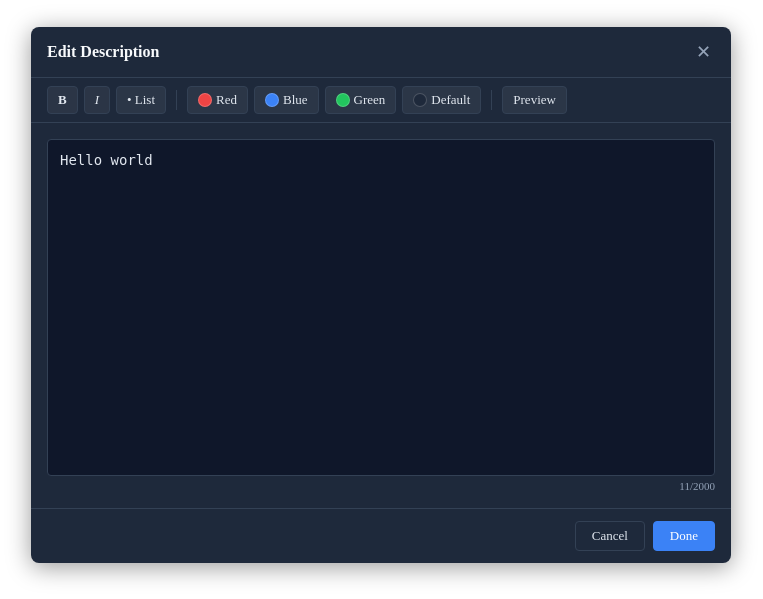
Scenario: DescriptionModal › toolbar bold button › wraps selected text with bold markers
This screenshot has width=763, height=599.
What coordinates should you click on to do the following:
click the button with test id "toolbar-bold"
I would click on:
 (62, 100)
Its box is [47,86,78,114].
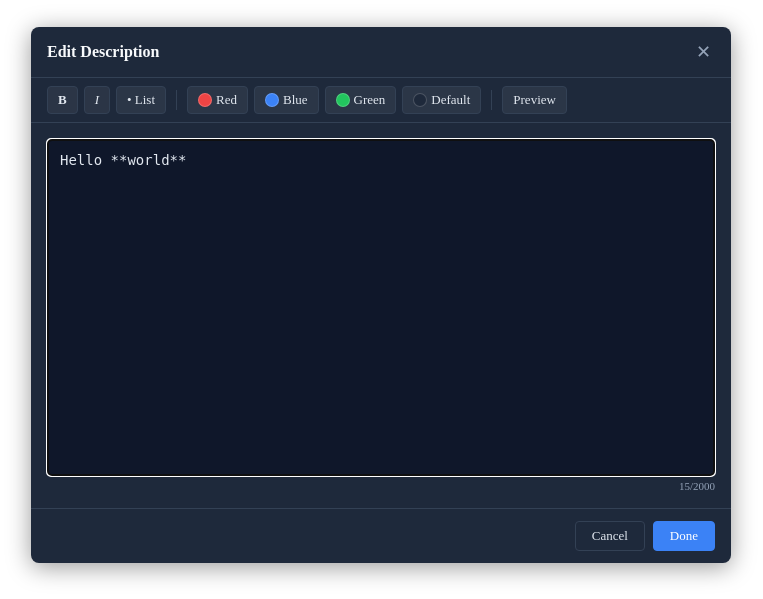
Expected: the text box with test id "description-modal-textarea" holds "Hello **world**", [47,139,715,476]
